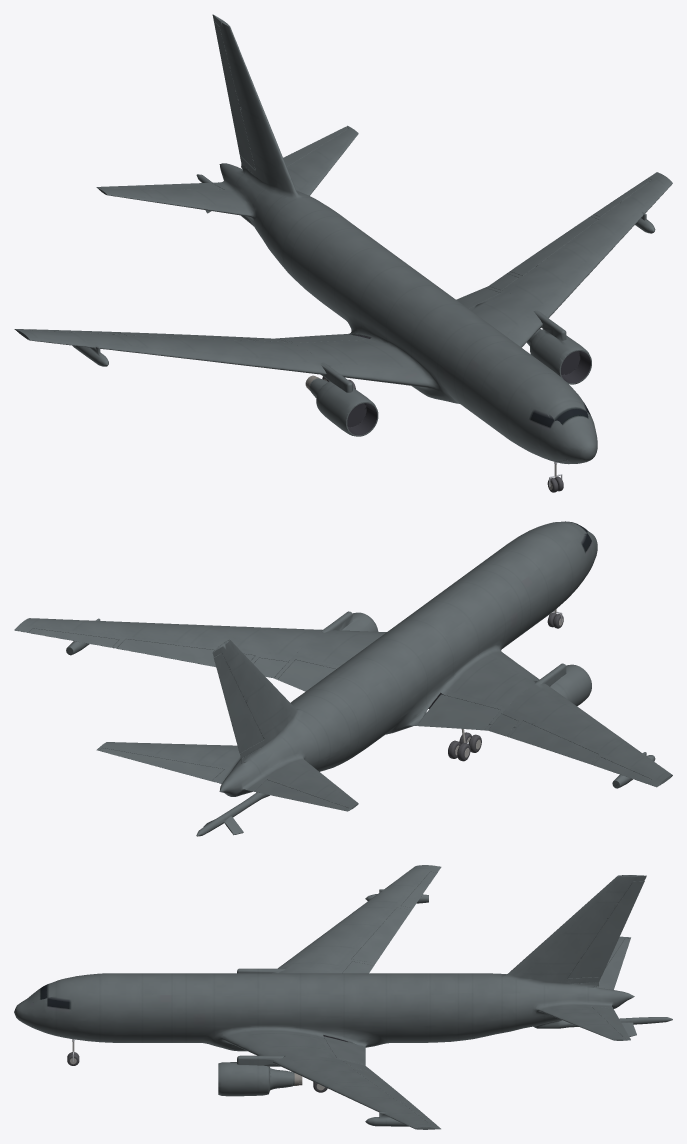
The picture shows the model from 3 angles, top to bottom: view 1: azimuth 30°, elevation 25°; view 2: azimuth 150°, elevation 25°; view 3: azimuth 270°, elevation 25°; orthographic projection. The views are drawn at different scales.
Parts seen in each view (by area): view 1: airframe, fsim:rudder, fsim:flaps; view 2: airframe, fsim:flaps (×4), fsim:elevator (×2), fsim:rudder, fsim:aileron (×2); view 3: airframe, fsim:flaps (×3), fsim:rudder, fsim:elevator (×2), fsim:aileron.
Boxes of the visible parts, x1,y1,x2,y2 form: airframe: (14,14,672,463); fsim:rudder: (214,22,255,170); fsim:flaps: (510,216,598,275); airframe: (14,521,672,836); fsim:flaps (×4): (117,639,598,763); fsim:elevator (×2): (99,748,348,810); fsim:rudder: (214,653,263,752); fsim:aileron (×2): (28,628,651,783); airframe: (14,865,672,1129); fsim:flaps (×3): (323,907,411,1103); fsim:rudder: (567,881,644,978); fsim:elevator (×2): (592,938,630,1039); fsim:aileron: (401,871,437,908).
Size of the model in its own units: 47.58 by 15.98 by 50.5.
6 materials, 1 textured.
